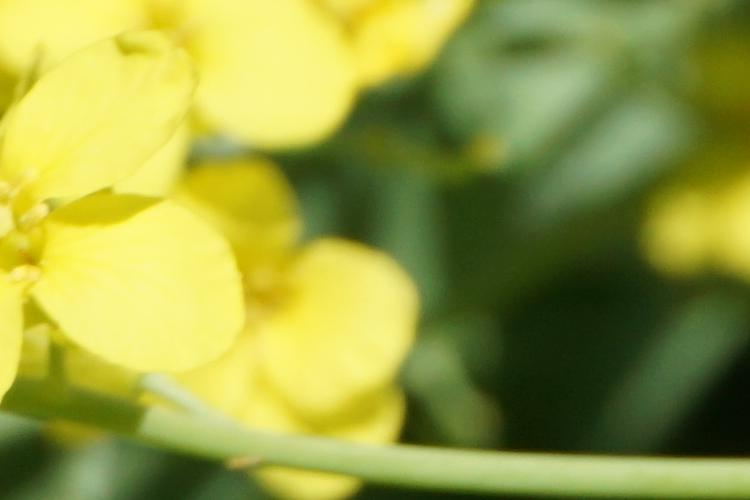yellow: (1, 25, 242, 402)
